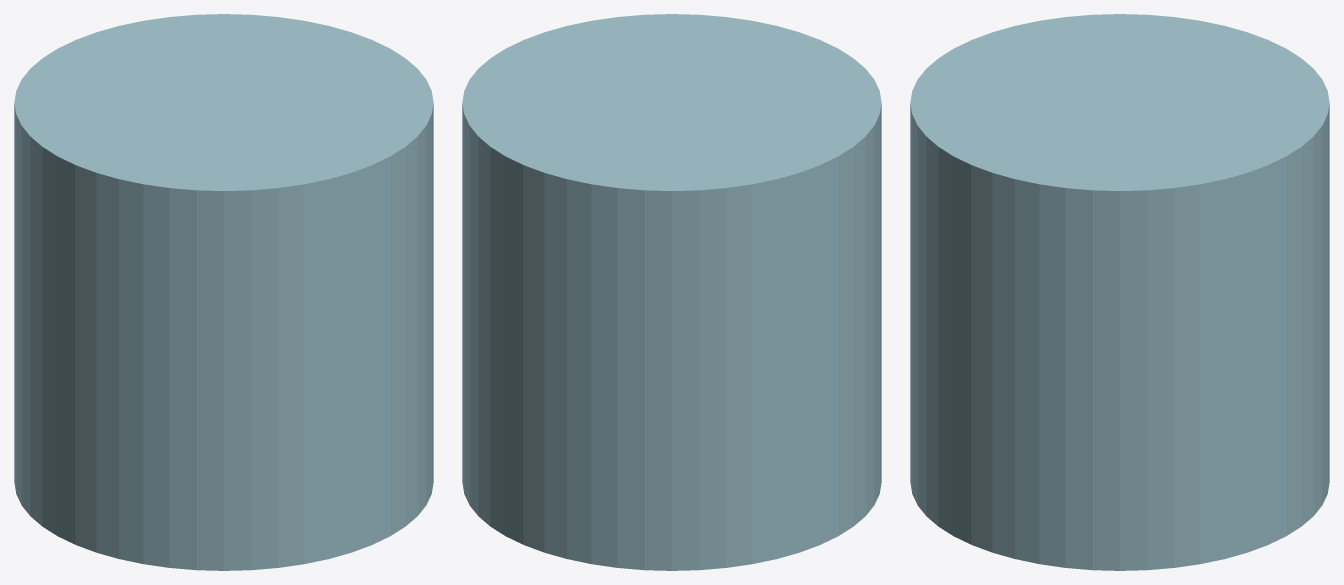
3 views of the same model, side by side, from view 1: azimuth 30°, elevation 25°; view 2: azimuth 150°, elevation 25°; view 3: azimuth 270°, elevation 25° (orthographic).
Visible parts, largest first — view 1: Mesh_Mesh_head_geo.001_lambert2SG.001; view 2: Mesh_Mesh_head_geo.001_lambert2SG.001; view 3: Mesh_Mesh_head_geo.001_lambert2SG.001.
Boxes of the visible parts, x1,y1,x2,y2 form: Mesh_Mesh_head_geo.001_lambert2SG.001: (14, 14, 433, 570); Mesh_Mesh_head_geo.001_lambert2SG.001: (462, 14, 881, 570); Mesh_Mesh_head_geo.001_lambert2SG.001: (910, 14, 1329, 570).
Bounding box in the file's own units: 0.02 × 0.02 × 0.02.
